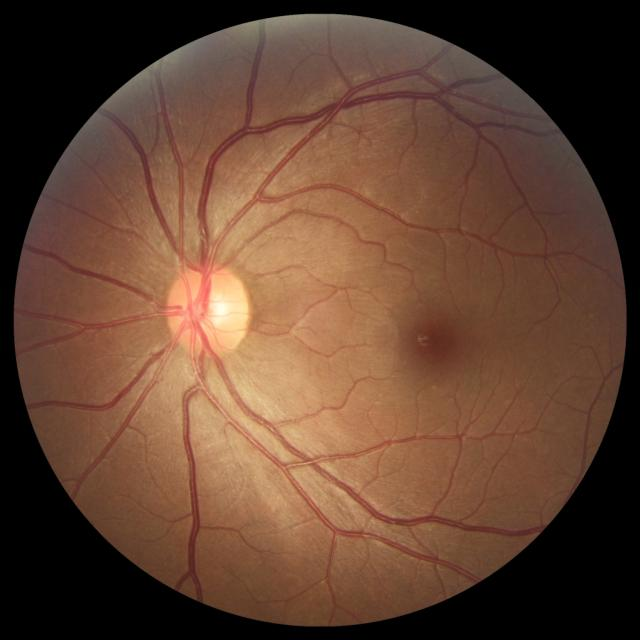OC: (190, 293, 228, 333)
OD: (166, 264, 250, 358)
